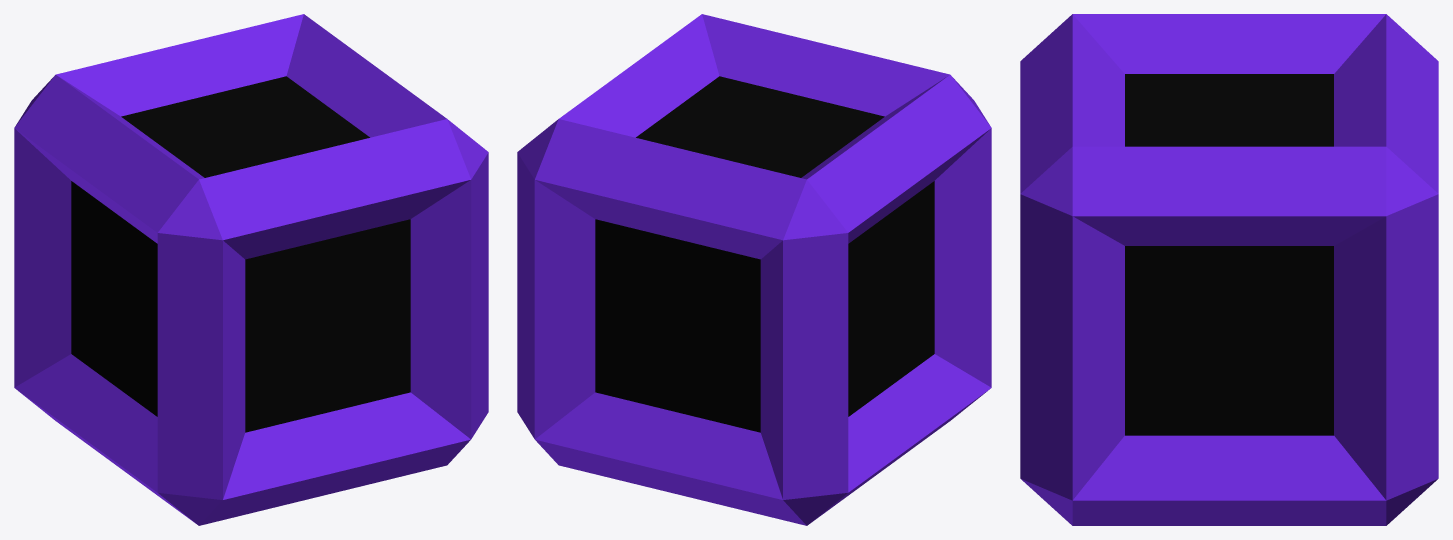
The model's file is CubeWall.fbx.
3 renders of one model, left to right at view 1: azimuth 30°, elevation 25°; view 2: azimuth 150°, elevation 25°; view 3: azimuth 270°, elevation 25°, orthographic. The views are drawn at different scales.
Visible parts, largest first — view 1: Cube; view 2: Cube; view 3: Cube.
Boxes of the visible parts, left/top/right/bottom form: Cube: left=14, top=14, right=488, bottom=525; Cube: left=517, top=14, right=991, bottom=525; Cube: left=1020, top=14, right=1438, bottom=525.
Size of the model in its own units: 2 by 2 by 2.
